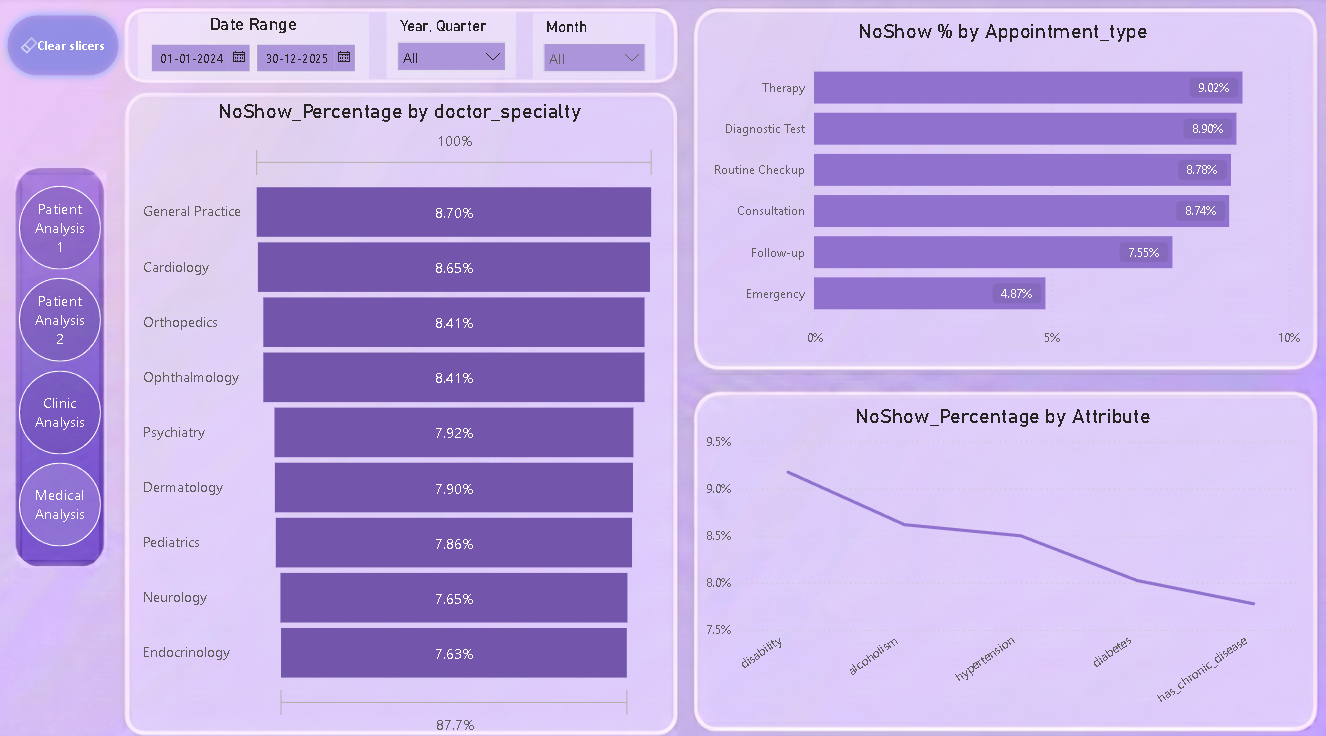

The dashboard page shown, as its layout file describes it:
{"tool":"powerbi","page":{"name":"Medical Analysis","canvas":[1280,720],"ordinal":3},"visuals":[{"type":"lineChart","fields":{"Category":["Medical_data_analysis_factors.Attribute"],"Y":["patient_behavior_analysis (3).NoShow_Percentage"]},"box":[677.1,392.9,584.3,305.7],"z":0},{"type":"funnel","fields":{"Category":["Medical_data_analysis_factors.doctor_specialty"],"Y":["patient_behavior_analysis (3).NoShow_Percentage"]},"box":[134.3,98.6,505.7,621.4],"z":1000},{"type":"clusteredBarChart","title":"NoShow % by Appointment_type","fields":{"Category":["Medical_data_analysis_factors.appointment_type"],"Y":["patient_behavior_analysis (3).NoShow_Percentage"]},"box":[677.1,21.4,584.3,325.7],"z":2000},{"type":"slicer","title":"Date Range","fields":{"Values":["patient_behavior_analysis (3).appointment_day"]},"box":[134.3,15.7,222.9,62.9],"z":3000},{"type":"slicer","title":"Year, Qrt","fields":{"Values":["patient_behavior_analysis (3).appointment_day.Variation.Date Hierarchy.Year","patient_behavior_analysis (3).appointment_day.Variation.Date Hierarchy.Quarter"]},"box":[373.9,14.5,125,63.8],"z":4000},{"type":"slicer","fields":{"Values":["patient_behavior_analysis (3).appointment_day.Variation.Date Hierarchy.Month"]},"box":[515.7,15.7,118.6,62.9],"z":5000},{"type":"pageNavigator","box":[19.2,182.5,79.6,349.9],"z":6000},{"type":"actionButton","box":[0,9.6,123.5,74.1],"z":7000}]}

Visuals, with their boxes in screenshot pixels (x1, y1, x2, y2), scaled from the page's 1280x720 canvas onto the 1326x736 screenshot:
lineChart - Medical_data_analysis_factors.Attribute x patient_behavior_analysis (3).NoShow_Percentage: <bbox>701, 402, 1307, 714</bbox>
funnel - Medical_data_analysis_factors.doctor_specialty x patient_behavior_analysis (3).NoShow_Percentage: <bbox>139, 101, 663, 735</bbox>
"NoShow % by Appointment_type" clusteredBarChart: <bbox>701, 22, 1307, 355</bbox>
"Date Range" slicer: <bbox>139, 16, 370, 80</bbox>
"Year, Qrt" slicer: <bbox>387, 15, 517, 80</bbox>
slicer - patient_behavior_analysis (3).appointment_day.Variation.Date Hierarchy.Month: <bbox>534, 16, 657, 80</bbox>
pageNavigator: <bbox>20, 187, 102, 544</bbox>
actionButton: <bbox>0, 10, 128, 86</bbox>
